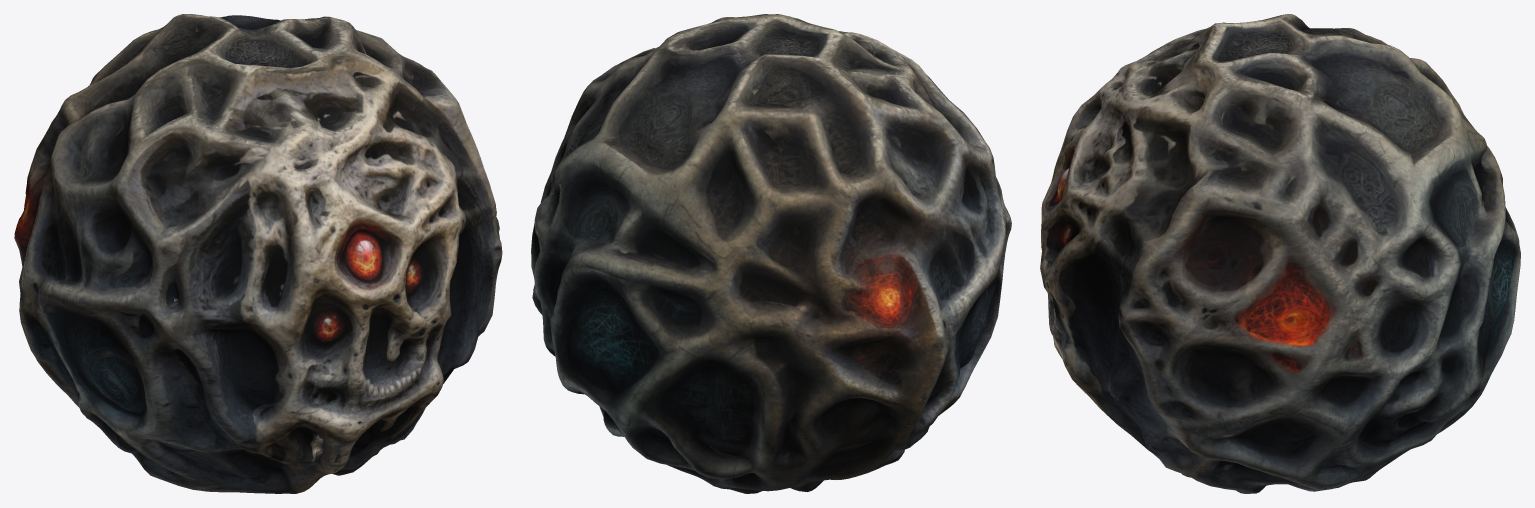
Rendered from hypercomplex_dangerou_0126045409_texture.glb.
3 views of the same model, side by side, from view 1: azimuth 30°, elevation 25°; view 2: azimuth 150°, elevation 25°; view 3: azimuth 270°, elevation 25° (orthographic).
Bounding box in the file's own units: 1.98 × 1.96 × 1.99.
1 material, 1 textured.
